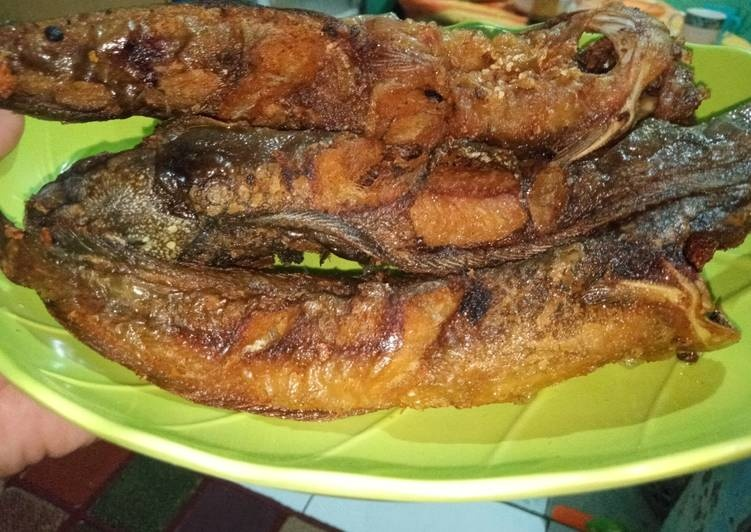pecel_lele: (18, 230, 746, 421), (20, 116, 749, 246)
